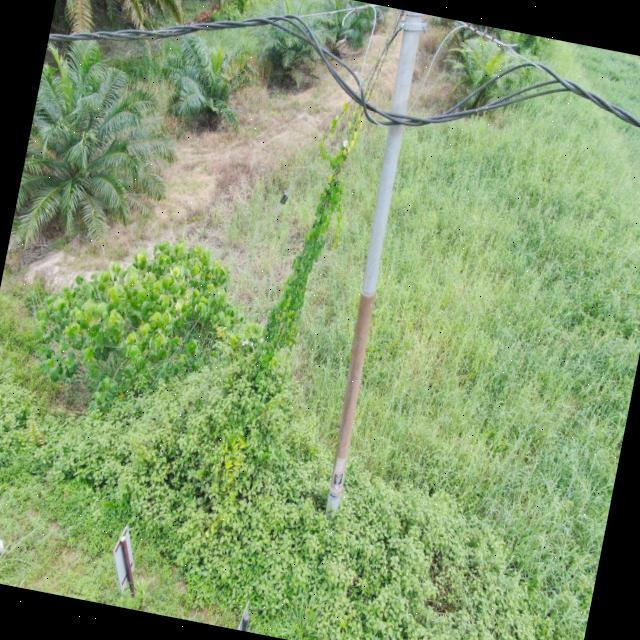critical vegetation: (220, 62, 382, 418)
